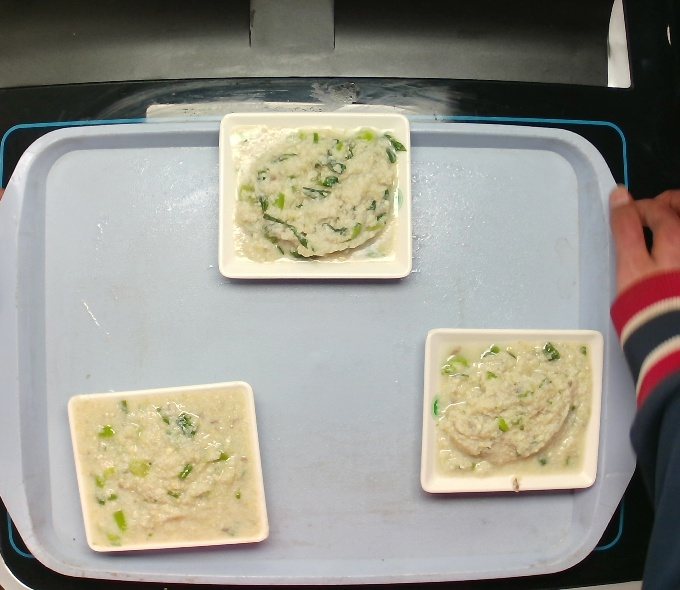wcq-QinCaiDouFuZha: (72, 384, 263, 555), (225, 116, 409, 271), (430, 332, 590, 493)
